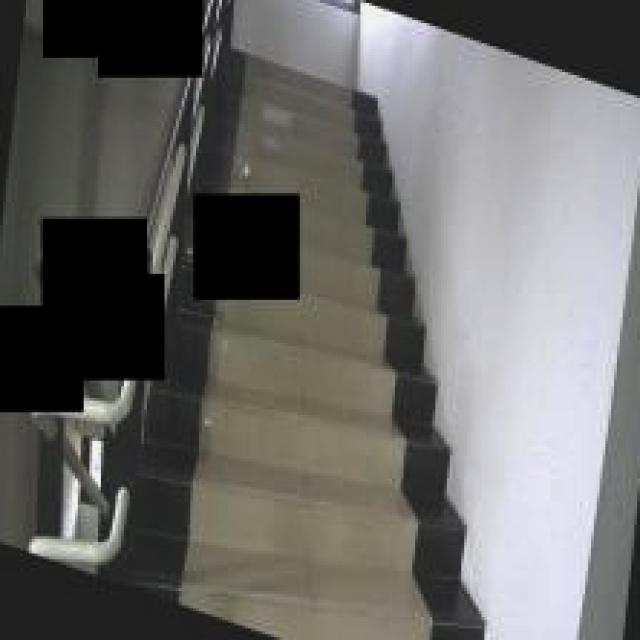upstair: (182, 306, 439, 640)
